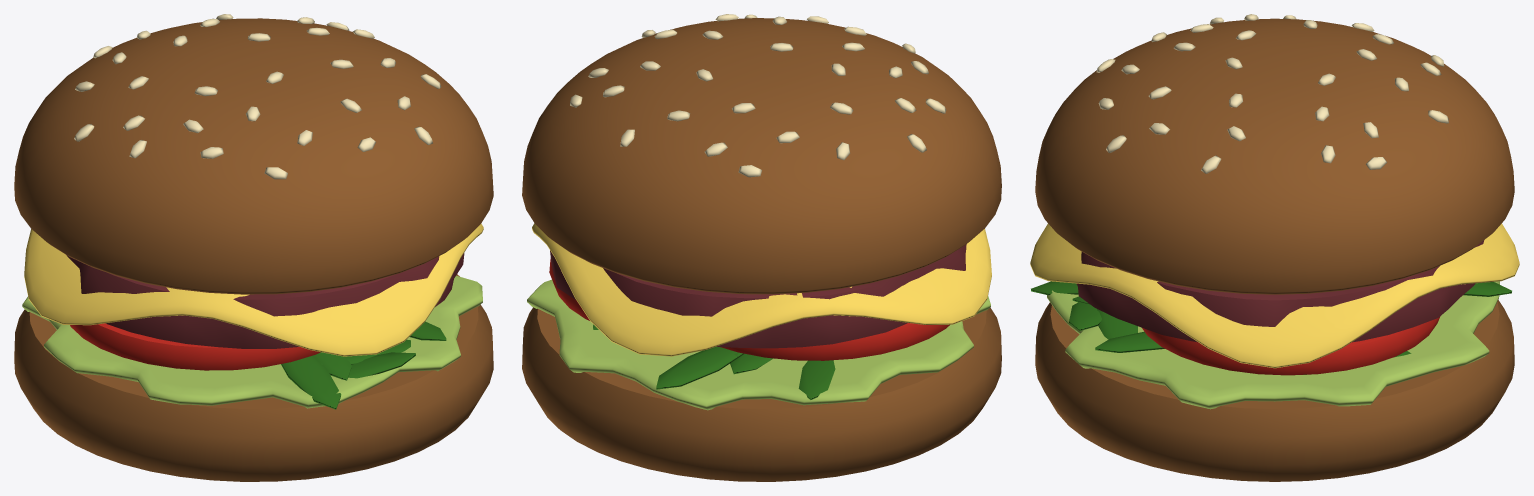
Rendered from veggie.glb.
3 renders of one model, left to right at view 1: azimuth 30°, elevation 25°; view 2: azimuth 150°, elevation 25°; view 3: azimuth 270°, elevation 25°, orthographic.
Parts seen in each view (by area): view 1: veggie; view 2: veggie; view 3: veggie.
Part boxes in pixels (x1,y1,x2,y2): veggie: [14, 14, 493, 481]; veggie: [522, 14, 1001, 481]; veggie: [1030, 14, 1519, 481].
Bounding box in the file's own units: 0.1122 × 0.085 × 0.1122.
